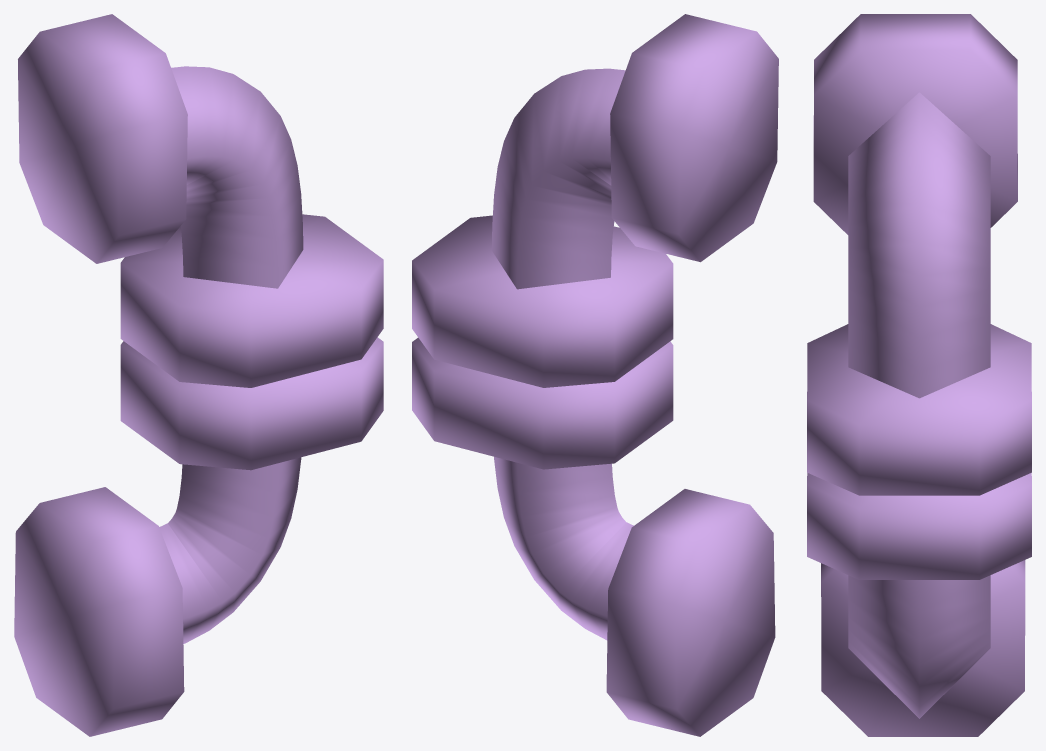
File: G_Background_Pipe_C.fbx
The picture shows the model from 3 angles, left to right: view 1: azimuth 30°, elevation 25°; view 2: azimuth 150°, elevation 25°; view 3: azimuth 270°, elevation 25°; orthographic projection. The views are drawn at different scales.
Visible parts, largest first — view 1: G_Background_Pipe_C; view 2: G_Background_Pipe_C; view 3: G_Background_Pipe_C.
Boxes of the visible parts, x1,y1,x2,y2 form: G_Background_Pipe_C: [14, 14, 383, 736]; G_Background_Pipe_C: [412, 14, 778, 736]; G_Background_Pipe_C: [807, 14, 1031, 736].
Size of the model in its own units: 208 by 458 by 136.
